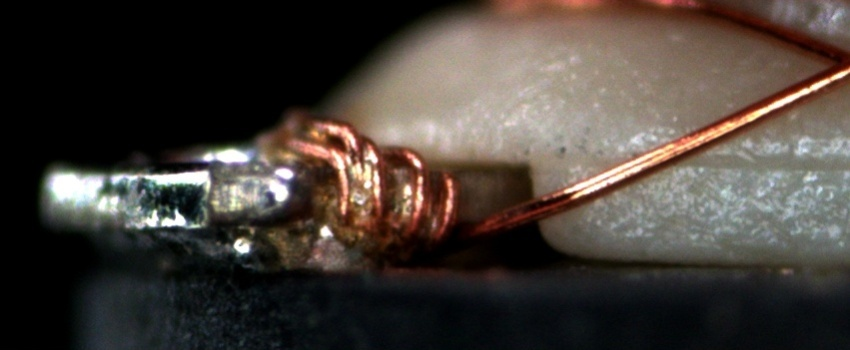CL: (801, 30, 849, 92)
DL: (569, 138, 849, 191)
TE: (286, 100, 467, 253)
